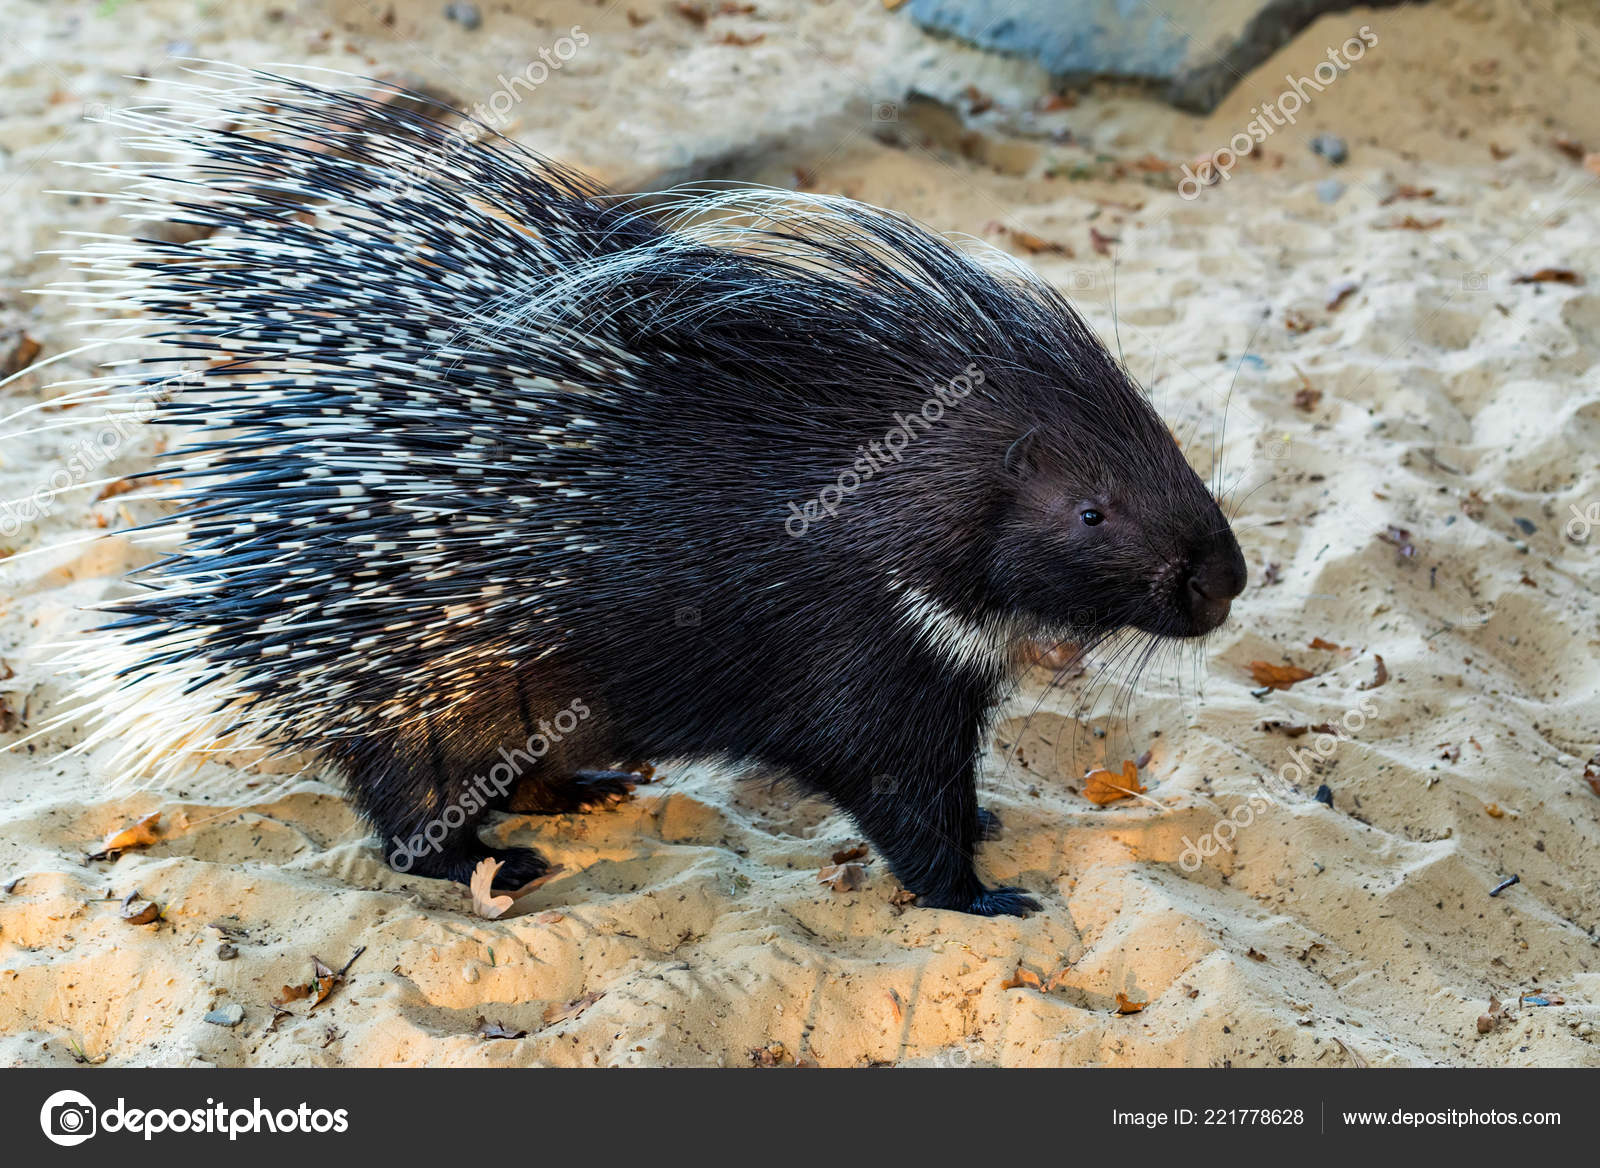porcupine: (41, 48, 1361, 924)
